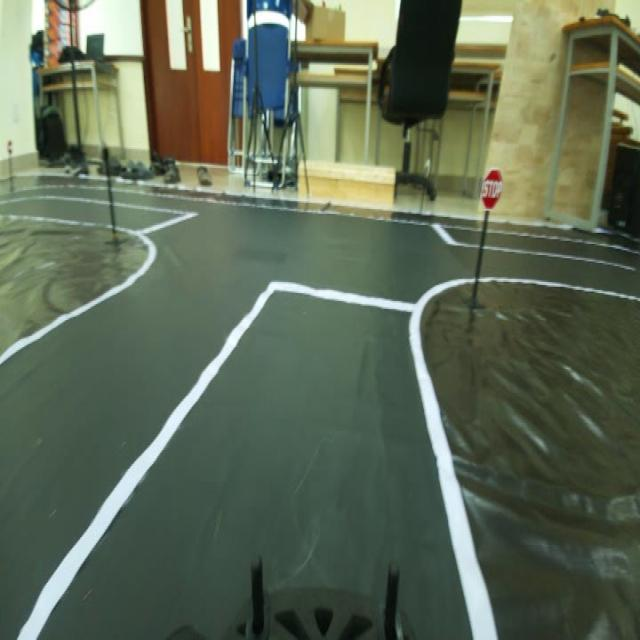stop: (475, 162, 513, 224)
